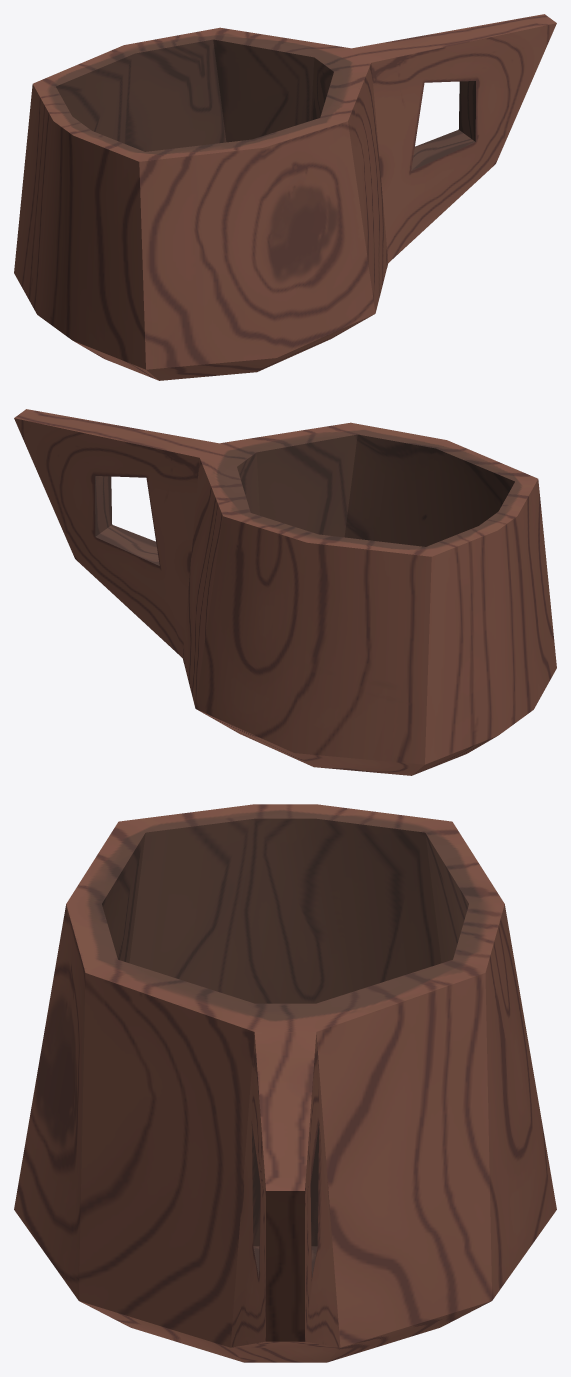
The model's file is prop_kuksa.gltf.
The picture shows the model from 3 angles, top to bottom: view 1: azimuth 30°, elevation 25°; view 2: azimuth 150°, elevation 25°; view 3: azimuth 270°, elevation 25°; orthographic projection. The views are drawn at different scales.
Visible parts, largest first — view 1: kuksa; view 2: kuksa; view 3: kuksa.
Boxes of the visible parts, left/top/right/bottom form: kuksa: left=14, top=14, right=556, bottom=380; kuksa: left=14, top=409, right=556, bottom=775; kuksa: left=14, top=804, right=556, bottom=1362.
Size of the model in its own units: 1.74 by 0.7618 by 1.05.
1 material, 1 textured.
